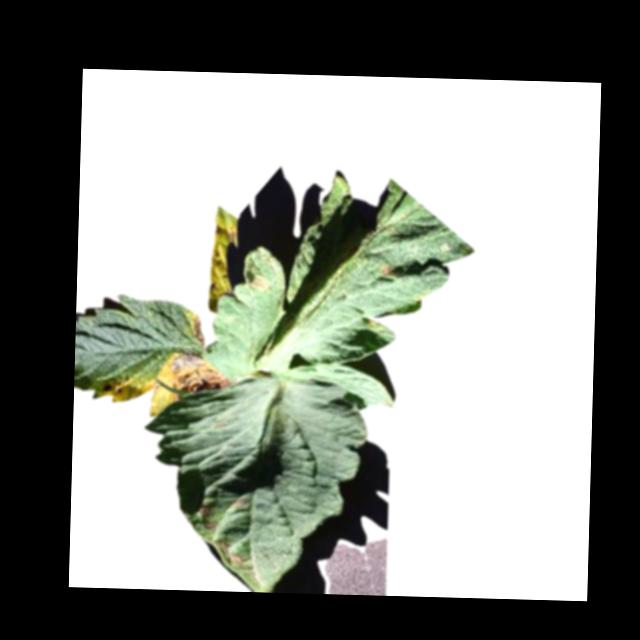Early_blight: (164, 351, 233, 406), (213, 540, 245, 566), (197, 507, 218, 532), (190, 322, 210, 348), (212, 224, 235, 244), (98, 380, 118, 400), (250, 274, 271, 292), (378, 264, 399, 279)
